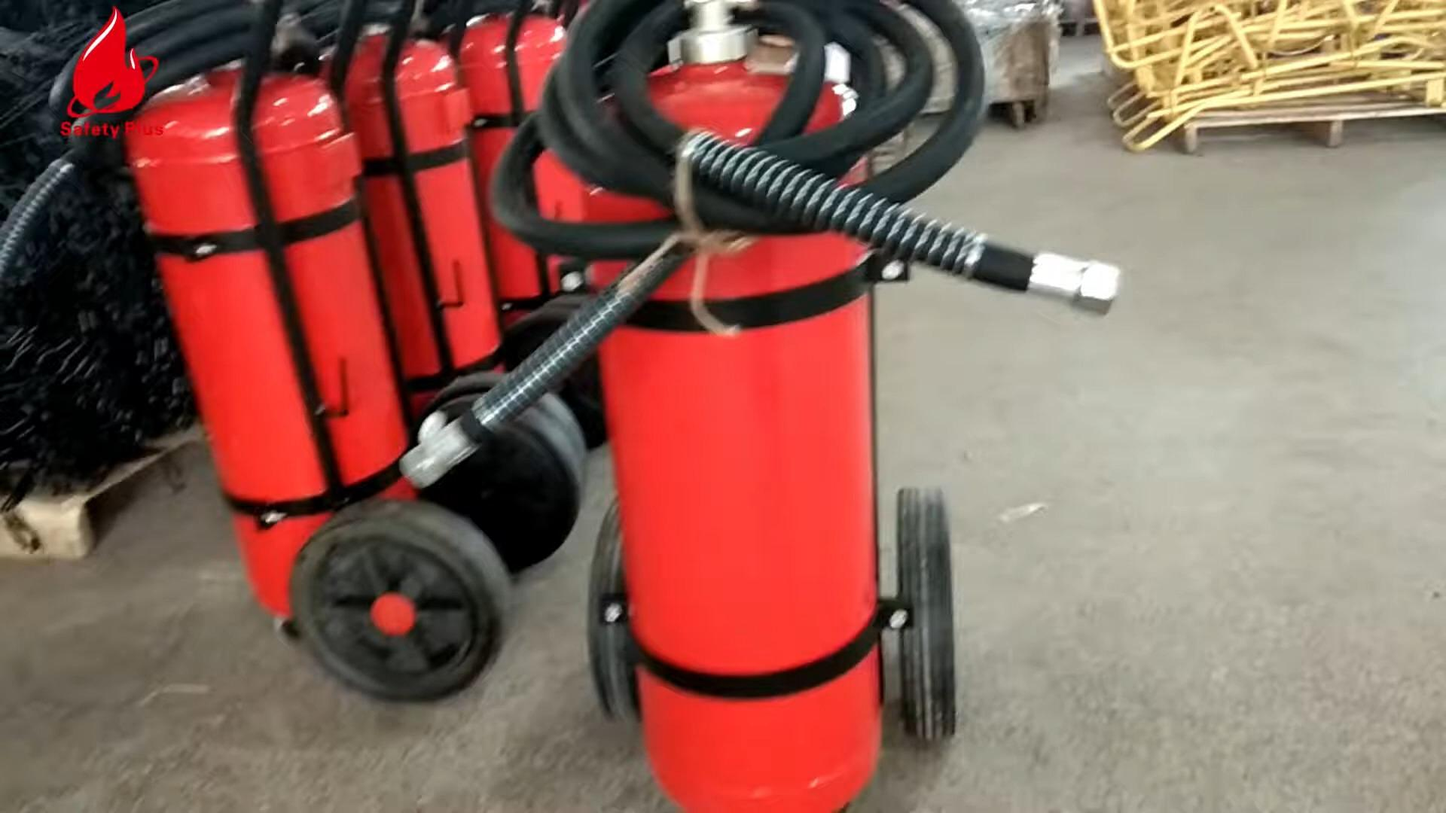FireExtinguisher: (555, 27, 922, 813), (83, 61, 433, 675), (302, 30, 517, 464), (448, 4, 582, 384)
